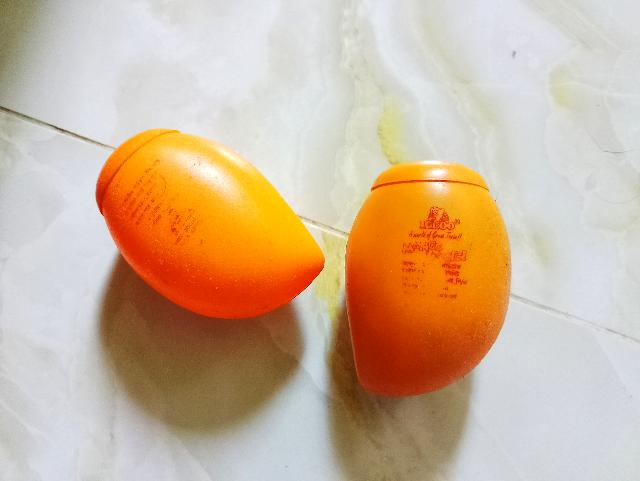hardplastic: (71, 91, 549, 415)
